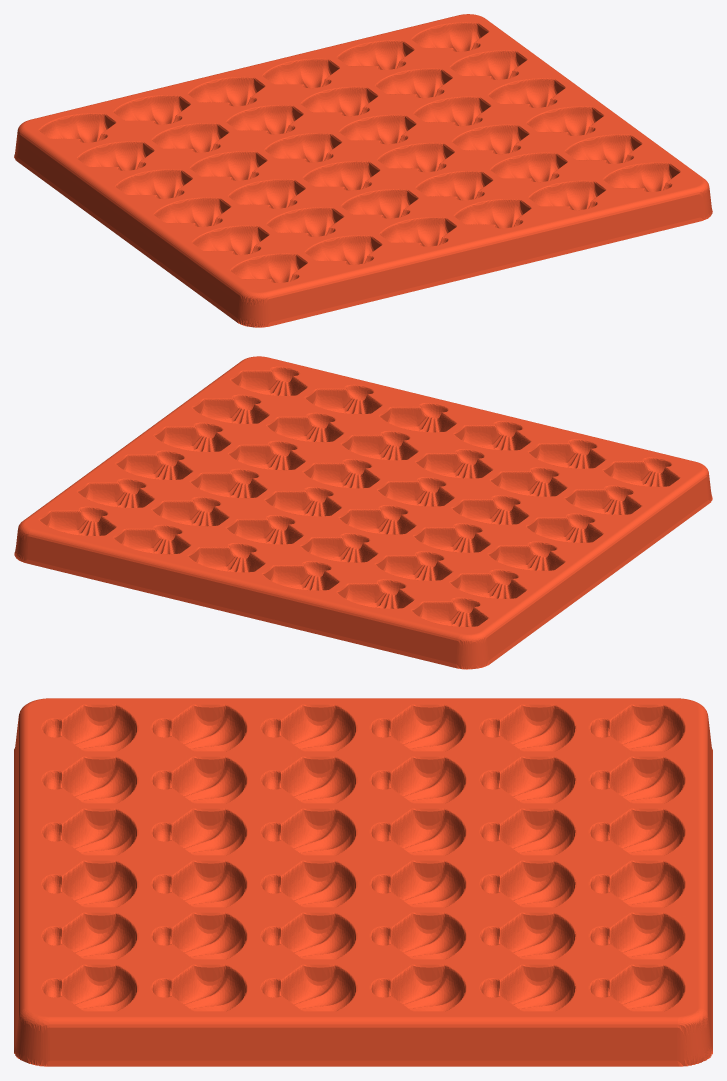
The model's file is mold.glb.
The picture shows the model from 3 angles, top to bottom: view 1: azimuth 30°, elevation 25°; view 2: azimuth 150°, elevation 25°; view 3: azimuth 270°, elevation 25°; orthographic projection. The views are drawn at different scales.
Visible parts, largest first — view 1: geometry_0; view 2: geometry_0; view 3: geometry_0.
Part boxes in pixels (x1=…): geometry_0: x1=14, y1=14, x2=712, y2=327; geometry_0: x1=14, y1=356, x2=712, y2=669; geometry_0: x1=14, y1=698, x2=712, y2=1066.
Size of the model in its own units: 0.1951 by 0.0121 by 0.1748.
